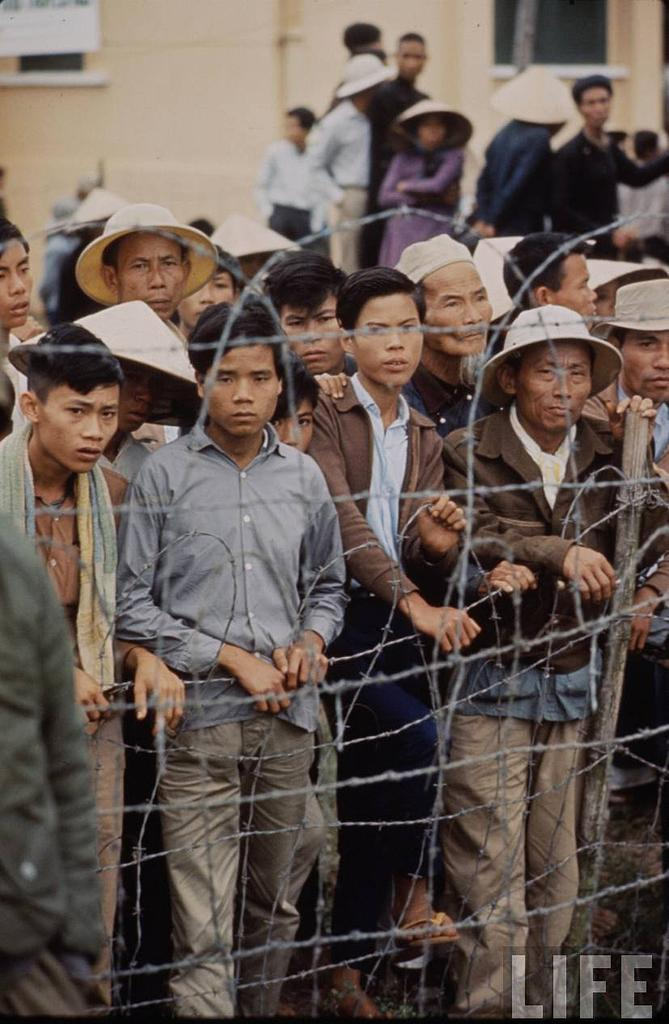Hat: (20, 296, 198, 424), (76, 194, 218, 304), (482, 299, 632, 402), (484, 60, 579, 122), (388, 100, 475, 144), (599, 280, 667, 330)
